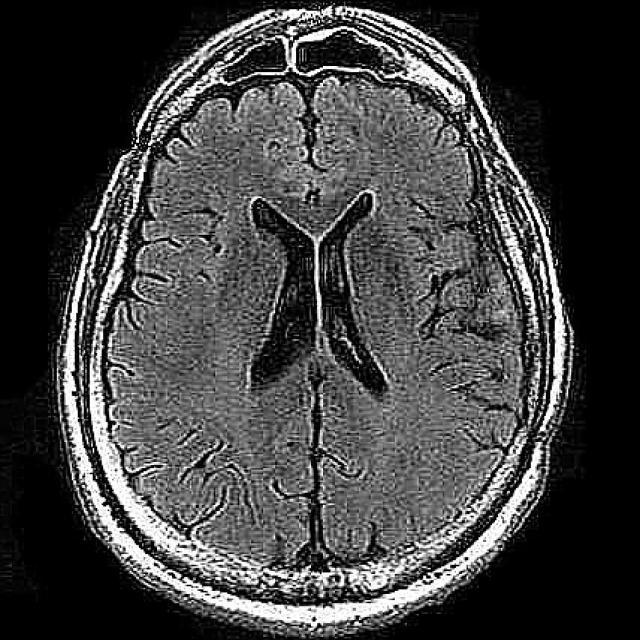notumor: (58, 8, 571, 628)
